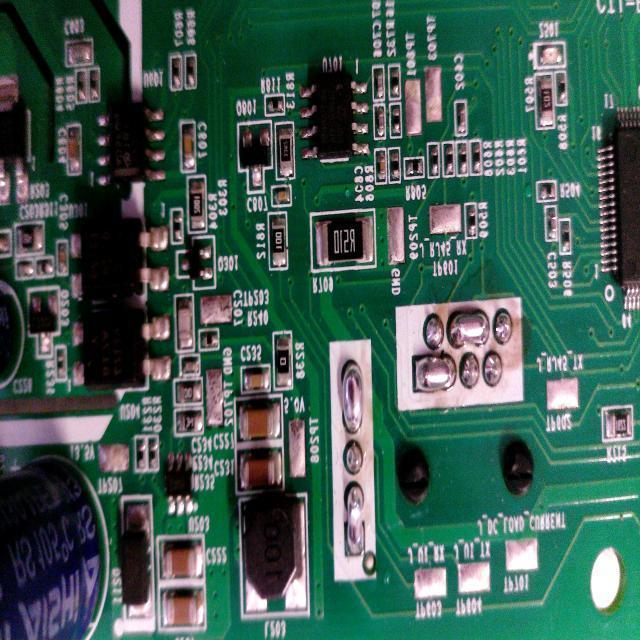Soldering bridge: (446, 295, 494, 349), (341, 354, 364, 436), (411, 356, 457, 396), (344, 484, 364, 554)
